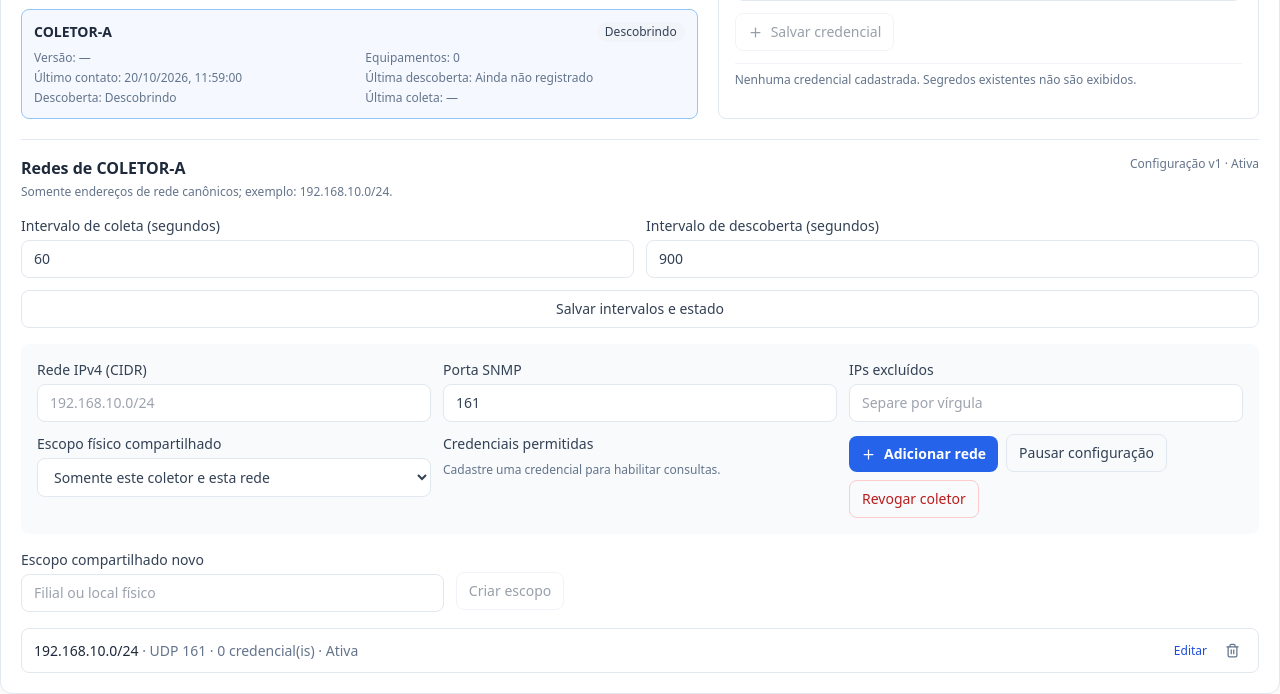
Test case: NetworkAgentIntegration › ages collector and discovery state on the local clock without fetching again
(page scrolled)
Expected: the text "Descobrindo" is shown, [597, 22, 685, 42]
Expected: the text "Descoberta: Descobrindo" is shown, [34, 89, 177, 106]
Click the button with aria-label "editar rede 192.168.10.0/24": point(1190, 650) [1166, 638, 1215, 662]
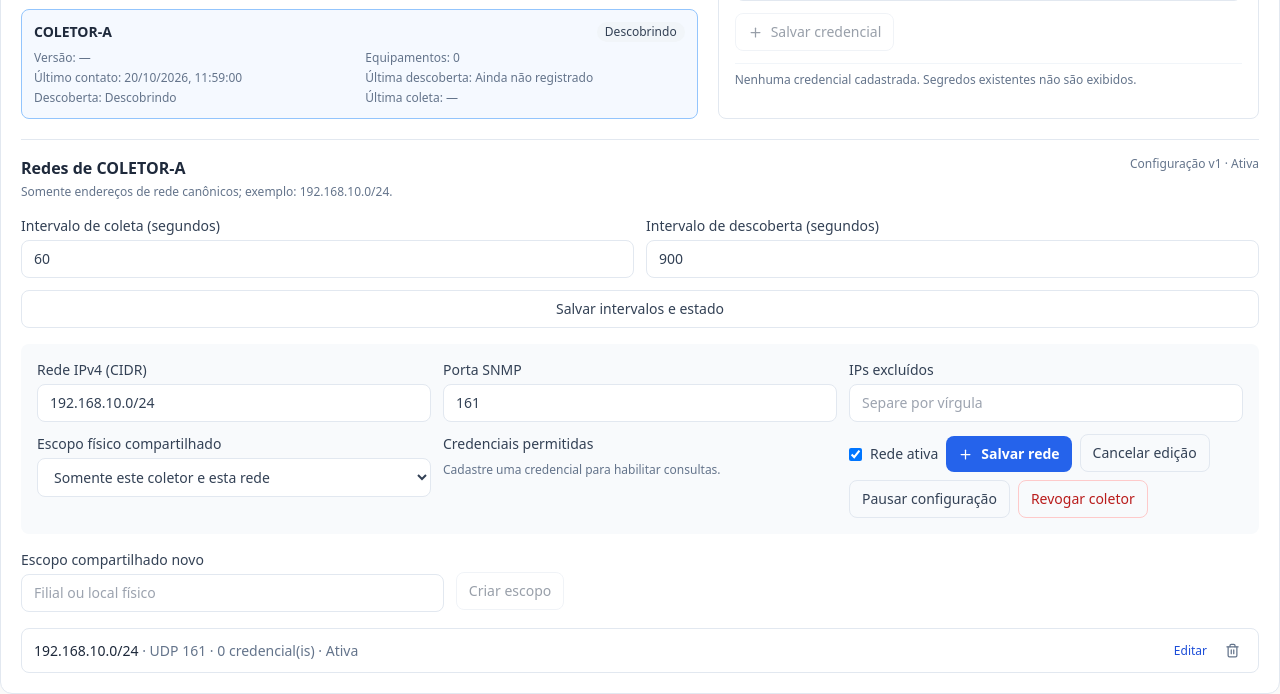
In the field labelled "Rede IPv4 (CIDR)": point(234, 403) [37, 384, 431, 422], type "192.168.10.0/25"
Wait 540000 ms
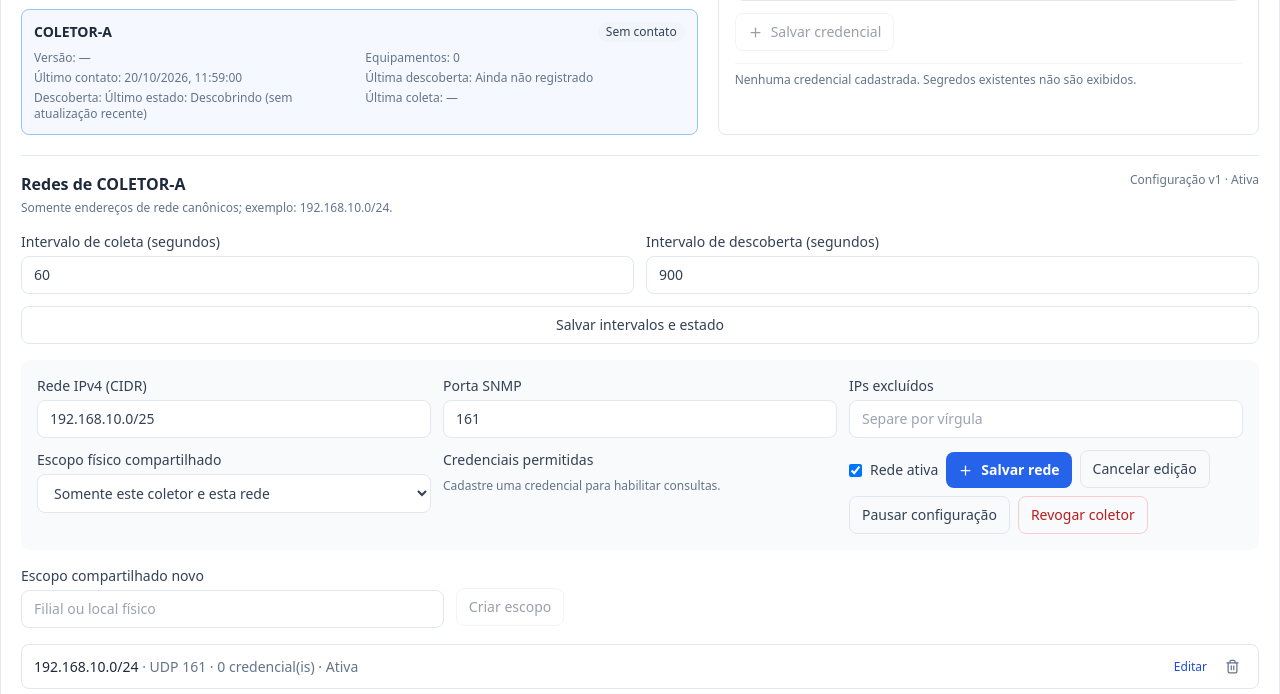
Now the text "Descoberta: Último estado: Descobrindo (sem atualização recente)" is shown, box [34, 89, 292, 122]
Now the button "Descoberta: Descobrindo" is gone
Now the text "Sem contato" is shown, box [598, 22, 685, 42]
